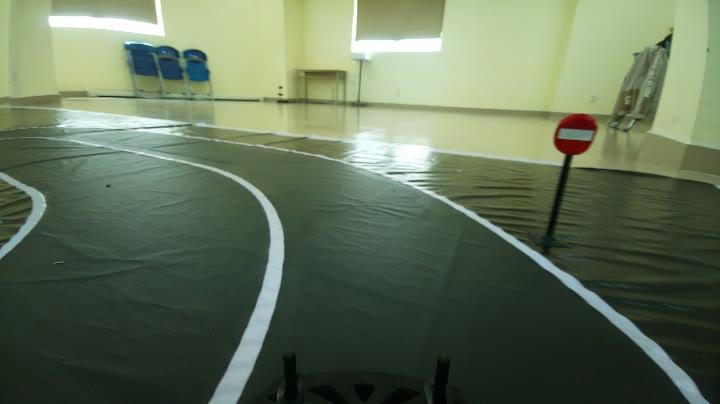no_entry: (546, 106, 608, 166)
